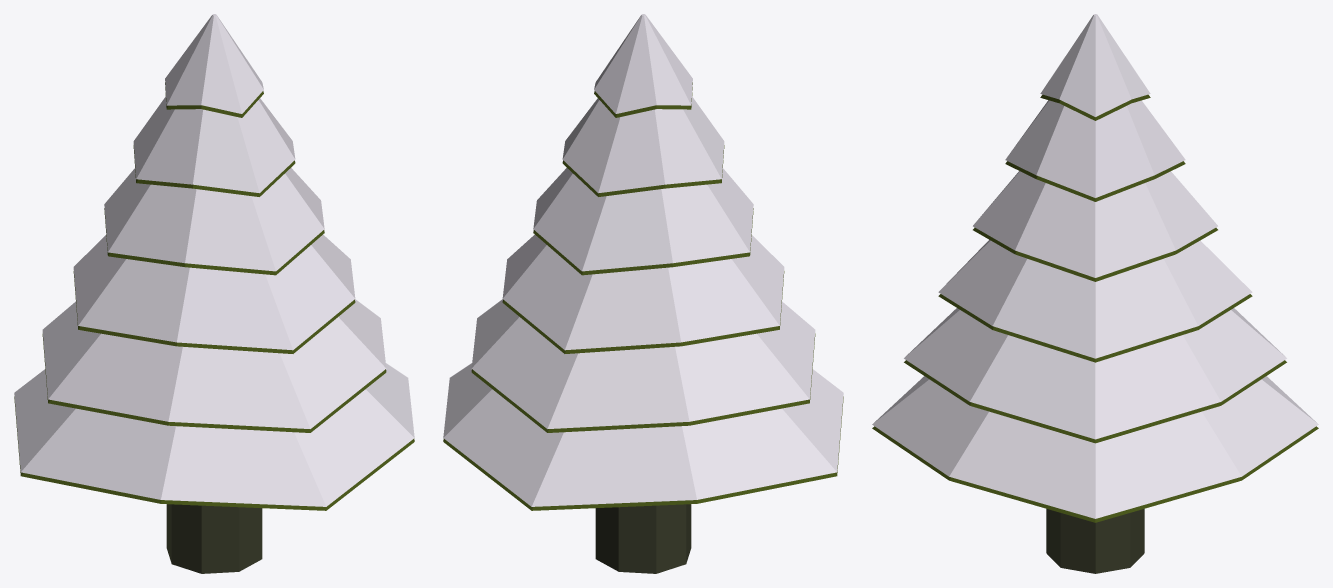
File: PineFat.fbx
3 renders of one model, left to right at view 1: azimuth 30°, elevation 25°; view 2: azimuth 150°, elevation 25°; view 3: azimuth 270°, elevation 25°, orthographic.
Visible parts, largest first — view 1: PineFat; view 2: PineFat; view 3: PineFat.
Part boxes in pixels (x1=…): PineFat: x1=14, y1=14, x2=414, y2=573; PineFat: x1=443, y1=14, x2=843, y2=573; PineFat: x1=872, y1=14, x2=1318, y2=573.
Size of the model in its own units: 315 by 419 by 315.
